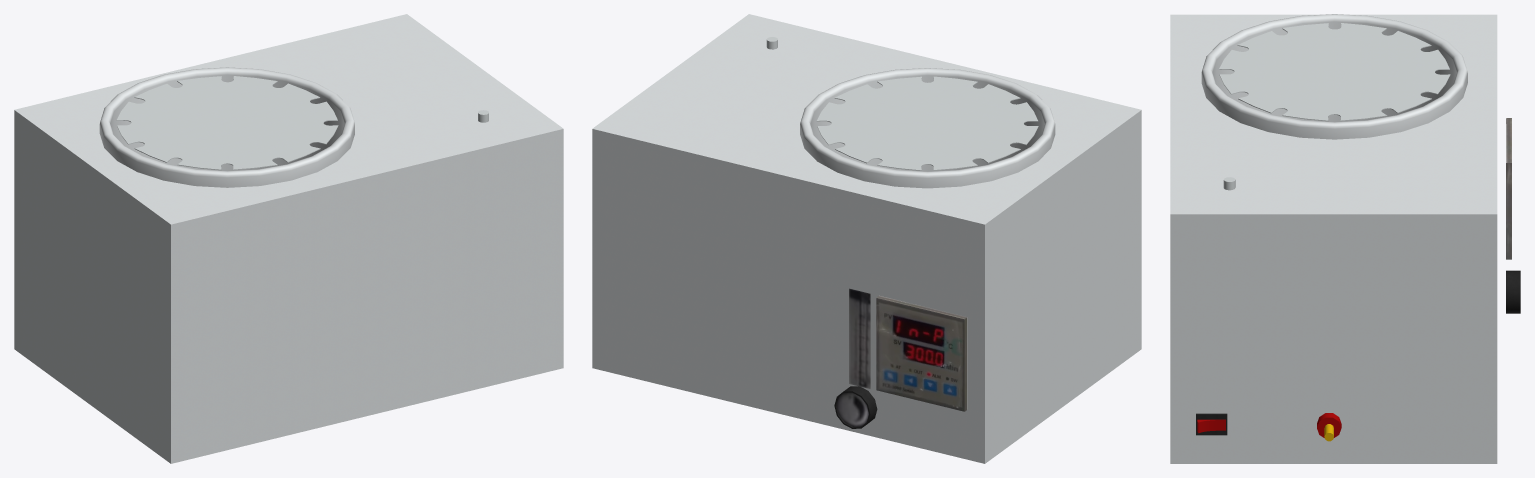
File: SM_圆形水浴氮吹仪.fbx
3 renders of one model, left to right at view 1: azimuth 30°, elevation 25°; view 2: azimuth 150°, elevation 25°; view 3: azimuth 270°, elevation 25°, orthographic. The views are drawn at different scales.
Visible parts, largest first — view 1: SM_圆形水浴氮吹仪; view 2: SM_圆形水浴氮吹仪; view 3: SM_圆形水浴氮吹仪.
Part boxes in pixels (x1,y1,x2,y2): SM_圆形水浴氮吹仪: (14,14,563,463); SM_圆形水浴氮吹仪: (592,14,1141,463); SM_圆形水浴氮吹仪: (1170,14,1520,463).
Bounding box in the file's own units: 190 × 109 × 132.
